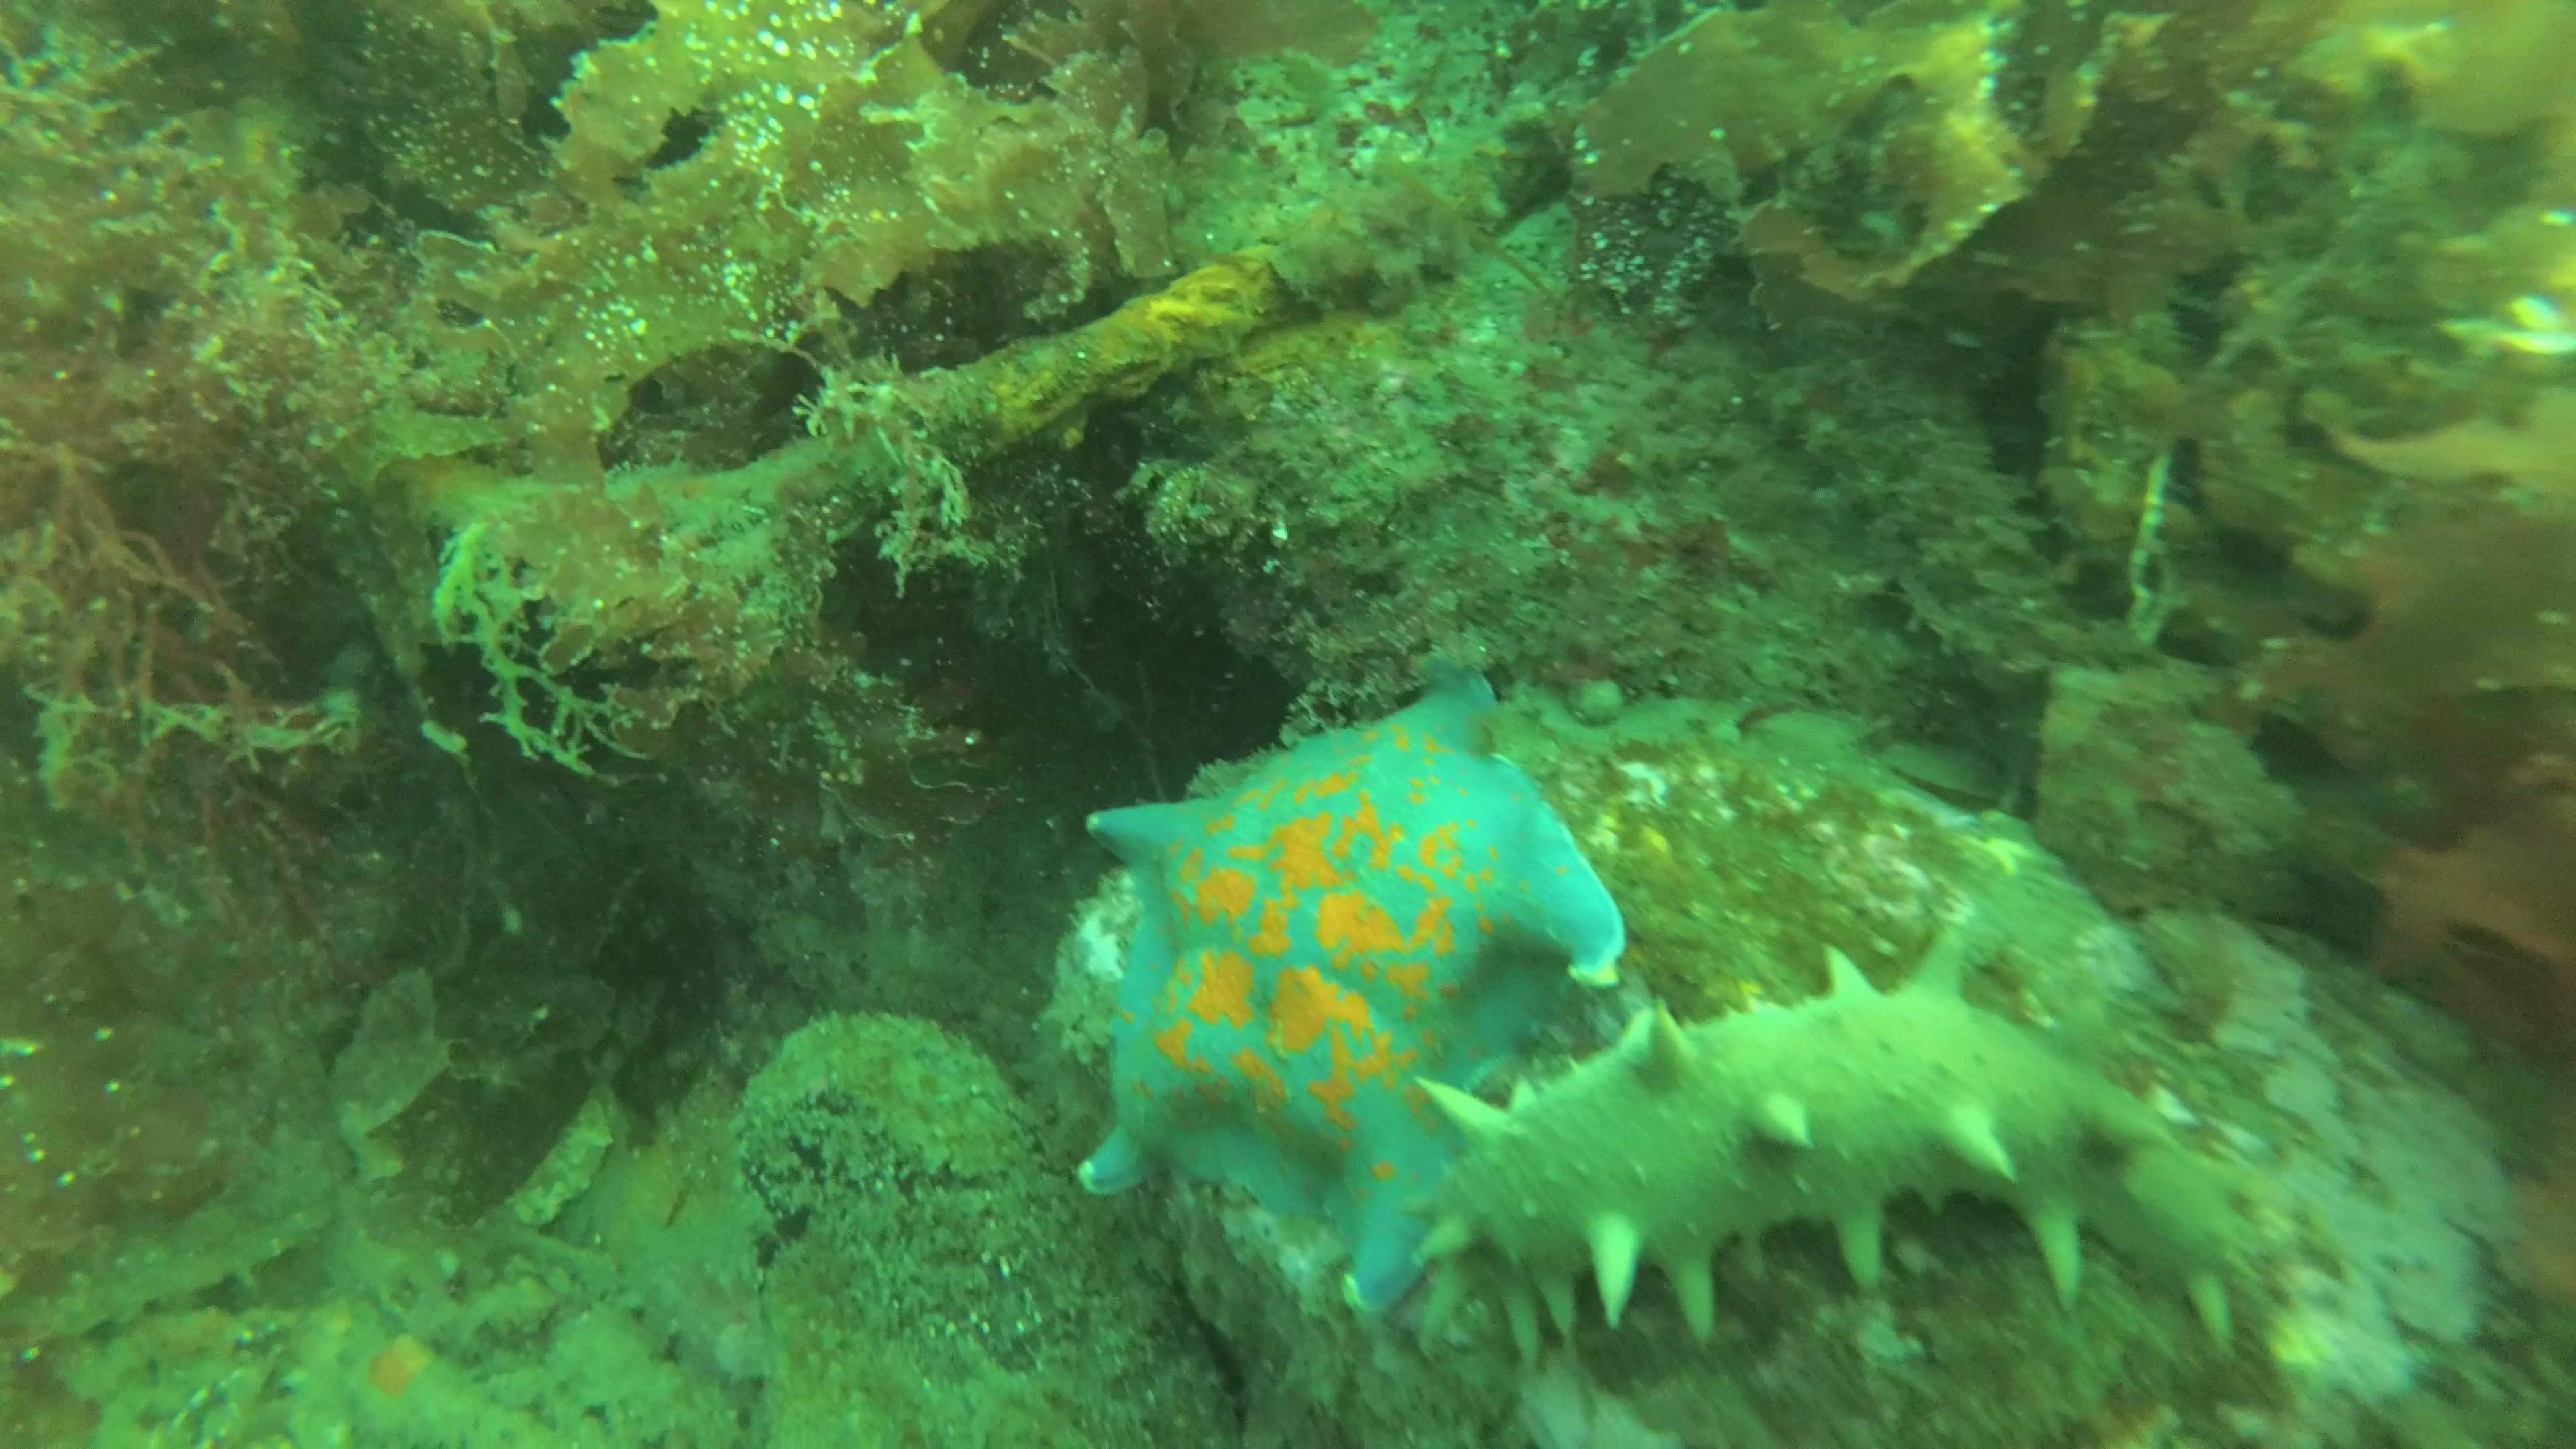holothurian: (1414, 927, 2272, 1369)
starfish: (1076, 678, 1629, 1316)
